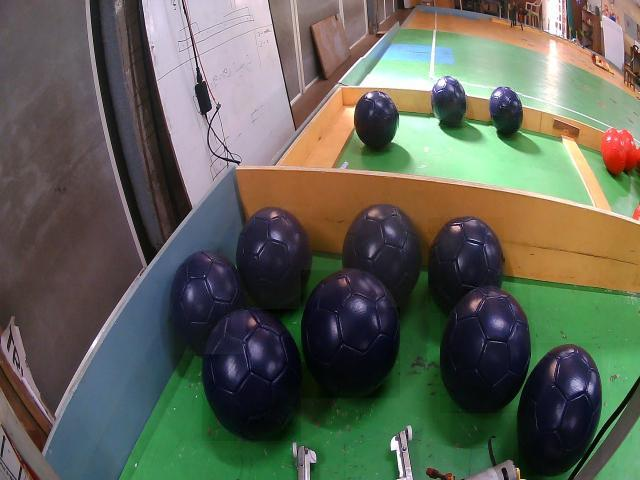kaalyya: (203, 310, 301, 441), (301, 270, 400, 398), (440, 287, 531, 413), (518, 343, 602, 476), (343, 205, 421, 307), (170, 252, 246, 354), (237, 206, 312, 309), (429, 217, 504, 313), (355, 91, 398, 150), (431, 76, 467, 126), (489, 86, 522, 136)
